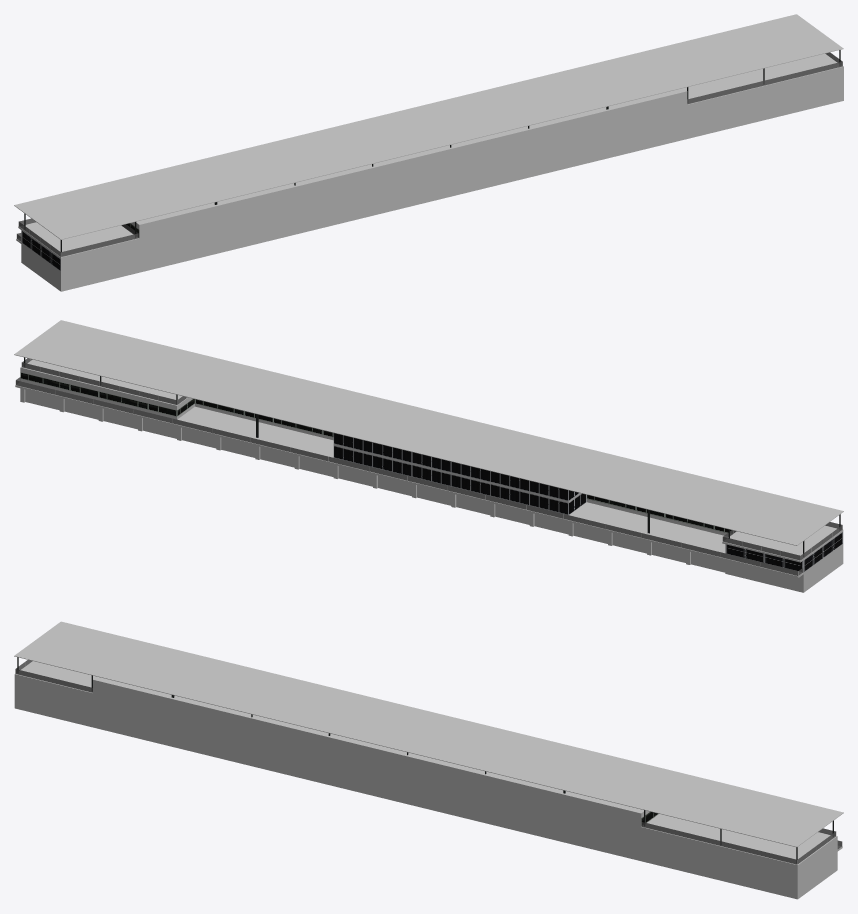
File: Building-Grid-11.obj
3 renders of one model, top to bottom at view 1: azimuth 30°, elevation 25°; view 2: azimuth 150°, elevation 25°; view 3: azimuth 330°, elevation 25°, orthographic.
Parts seen in each view (by area): view 1: Building-Grid-11_Cube.008; view 2: Building-Grid-11_Cube.008; view 3: Building-Grid-11_Cube.008.
Part boxes in pixels (<box>): Building-Grid-11_Cube.008: <box>14,14,843,291</box>; Building-Grid-11_Cube.008: <box>14,320,843,592</box>; Building-Grid-11_Cube.008: <box>14,621,843,899</box>.
Bounding box in the file's own units: 200 × 12.85 × 20.79.
